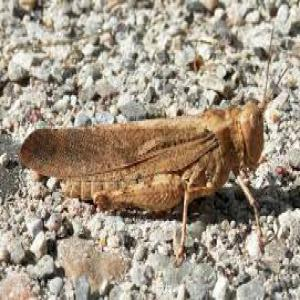locust: (32, 64, 274, 223)
